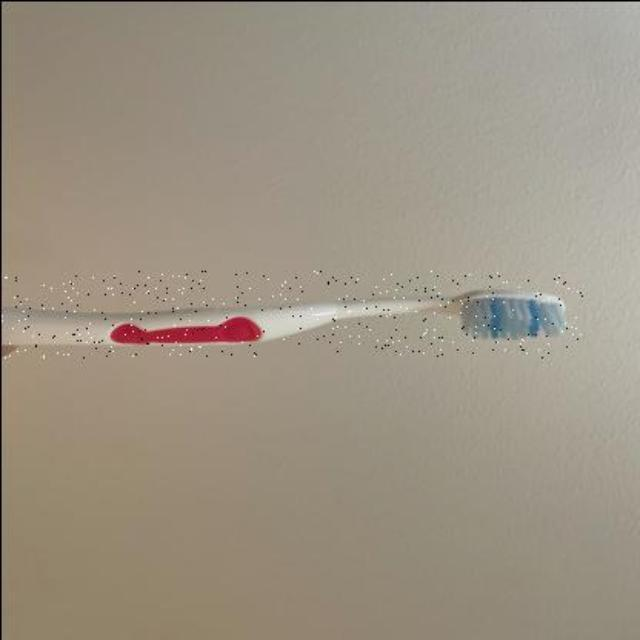toothbrush: (1, 270, 584, 356)
